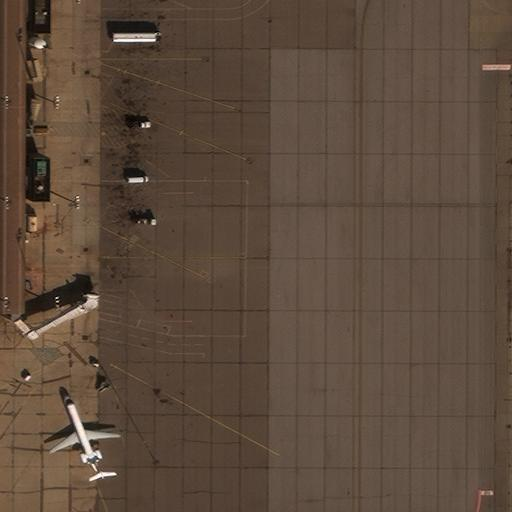Medium Civil Transport: (49, 396, 120, 479)
